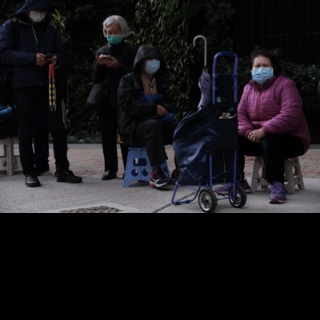with_mask: (249, 60, 275, 87), (144, 56, 161, 75), (28, 7, 48, 23), (106, 28, 122, 44)
